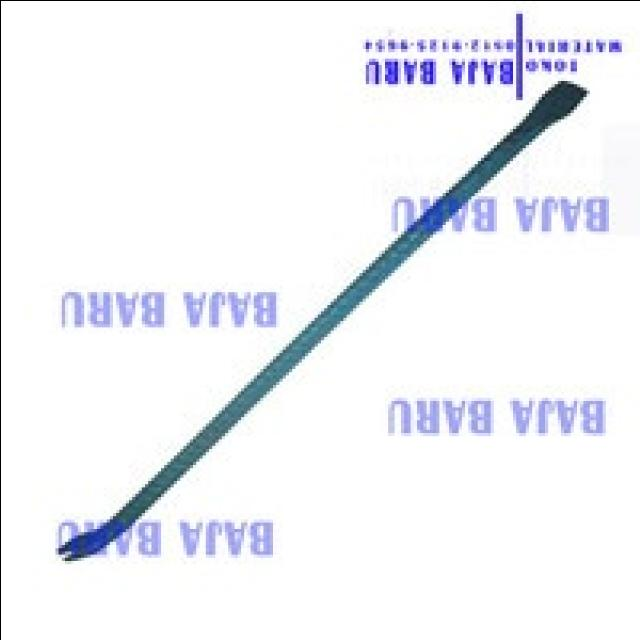Linggis: (57, 87, 582, 567)
